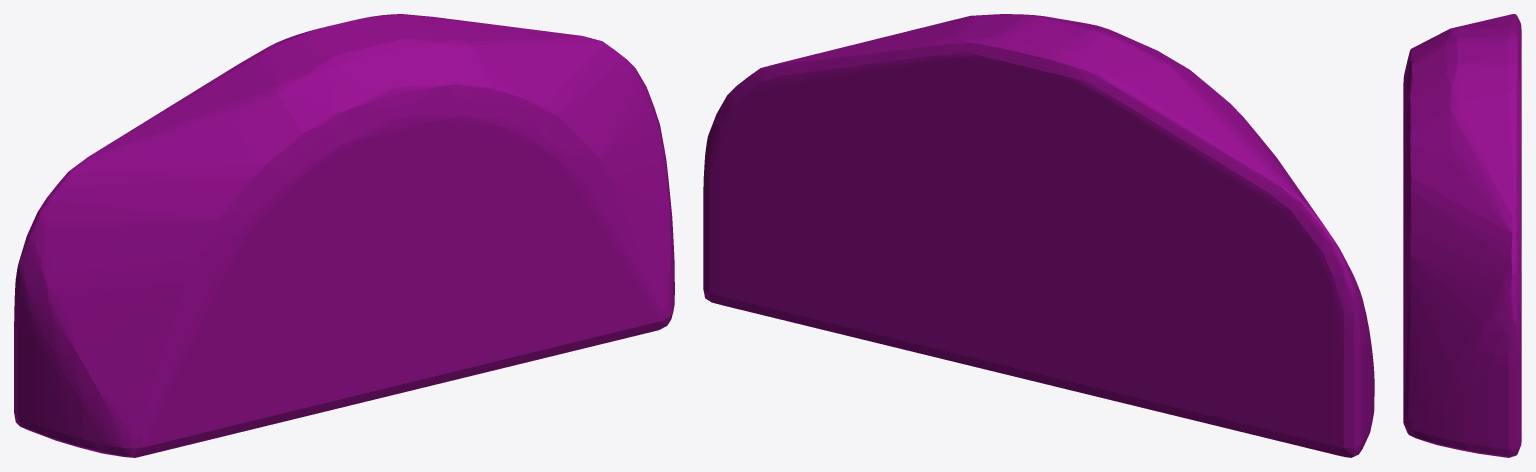
Rendered from pelvis_part_14.obj.
3 renders of one model, left to right at view 1: azimuth 30°, elevation 25°; view 2: azimuth 150°, elevation 25°; view 3: azimuth 270°, elevation 25°, orthographic. The views are drawn at different scales.
Size of the model in its own units: 0.1353 by 0.0665 by 0.0256.
